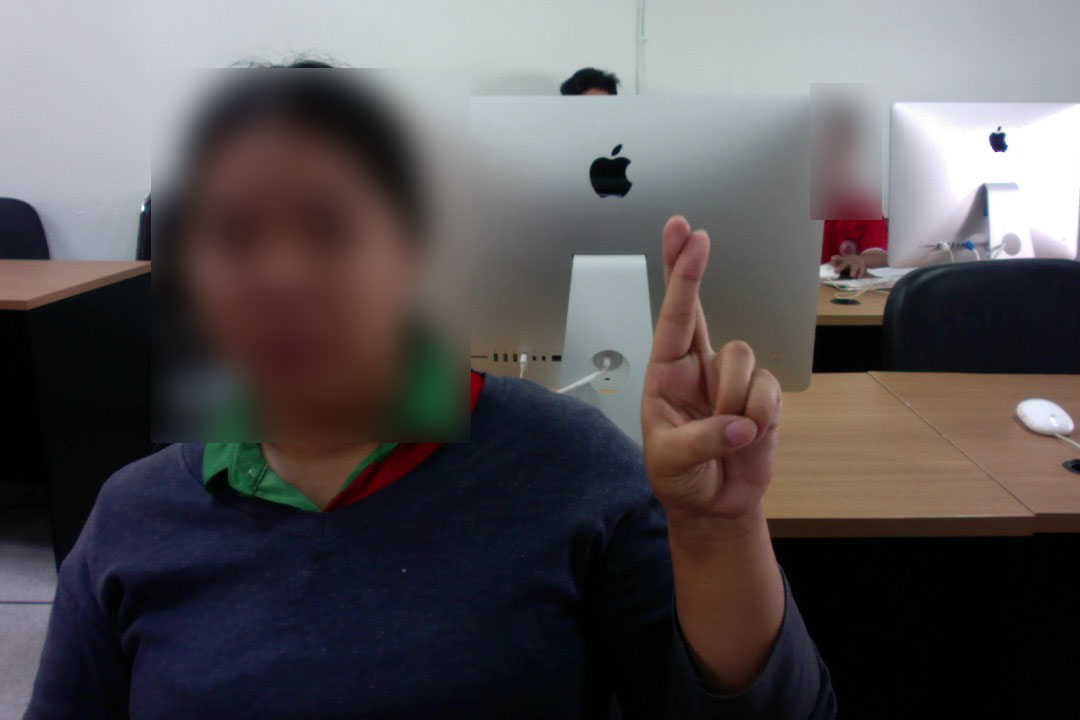rao: (627, 212, 790, 528)
